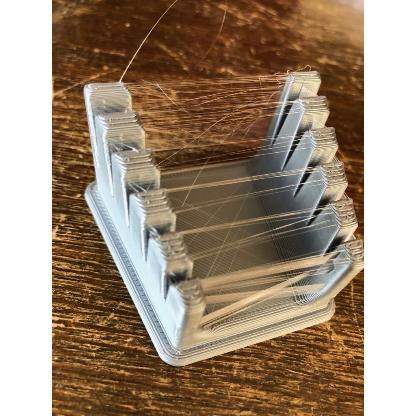fail: (136, 81, 276, 150), (168, 181, 310, 243), (206, 256, 318, 316)
